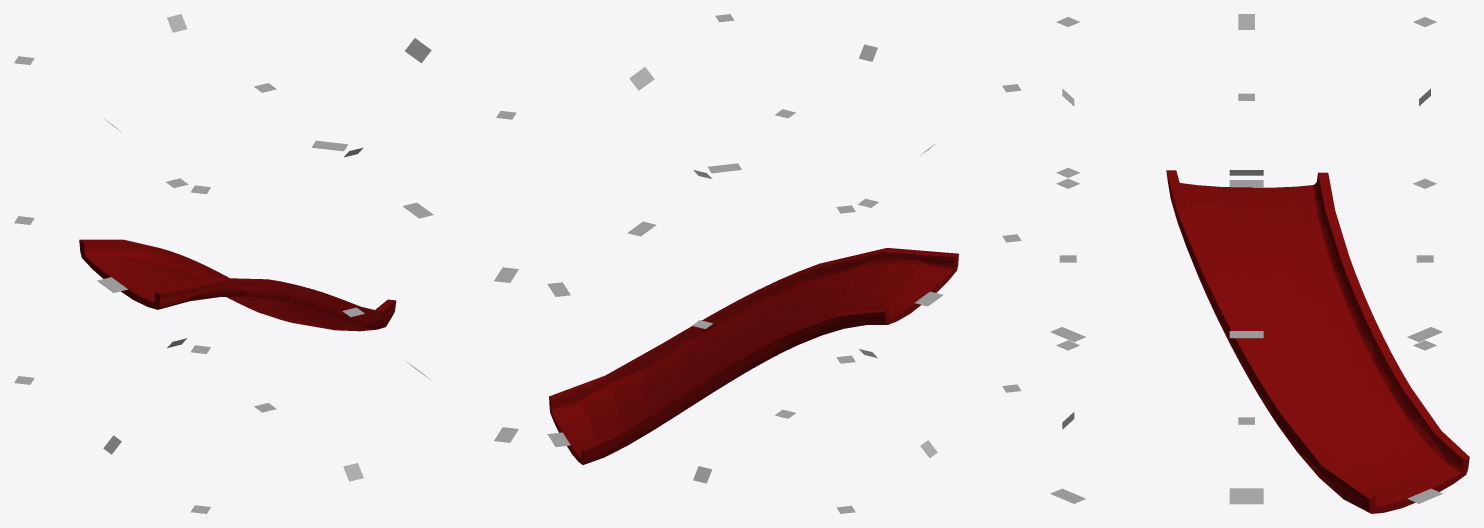
File: New45LeftDown.fbx
The picture shows the model from 3 angles, left to right: view 1: azimuth 30°, elevation 25°; view 2: azimuth 150°, elevation 25°; view 3: azimuth 270°, elevation 25°; orthographic projection. The views are drawn at different scales.
Parts seen in each view (by area): view 1: pPipe3; view 2: pPipe3; view 3: pPipe3, pasted__pCube21.
Part boxes in pixels (x1,y1,x2,y2): pPipe3: (79, 239, 396, 331); pPipe3: (549, 248, 958, 464); pPipe3: (1166, 170, 1469, 513); pasted__pCube21: (1229, 488, 1263, 504).
Bounding box in the file's own units: 24.36 × 21.86 × 24.69.
